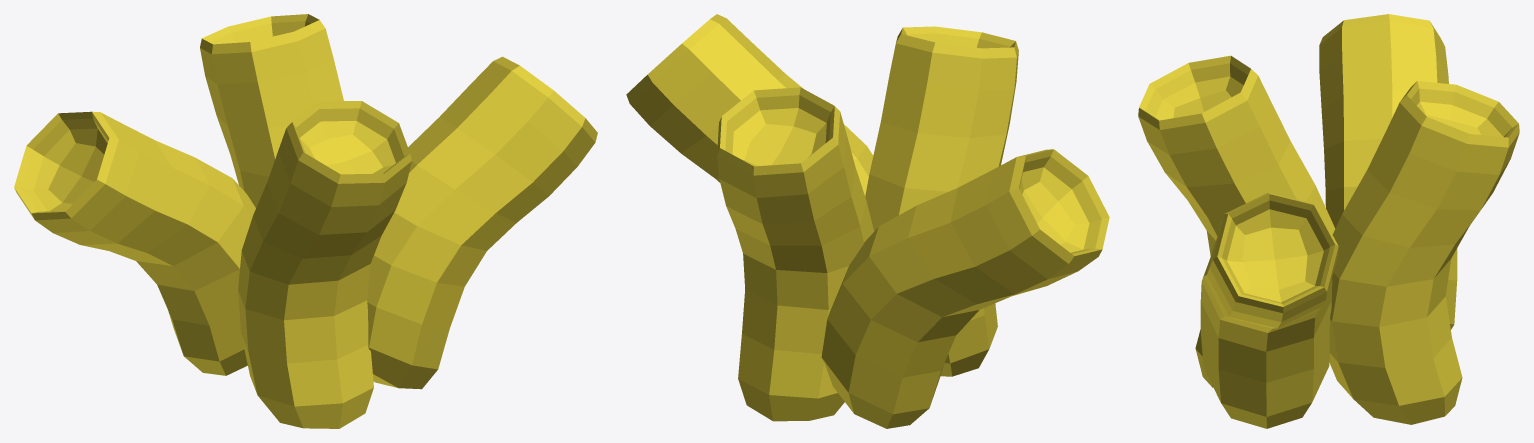
File: coral_1.fbx
3 renders of one model, left to right at view 1: azimuth 30°, elevation 25°; view 2: azimuth 150°, elevation 25°; view 3: azimuth 270°, elevation 25°, orthographic. The views are drawn at different scales.
Visible parts, largest first — view 1: coral 1; view 2: coral 1; view 3: coral 1.
Boxes of the visible parts, x1,y1,x2,y2 form: coral 1: (14,14,597,428); coral 1: (626,14,1109,428); coral 1: (1138,14,1519,428).
Size of the model in its own units: 154 by 93.48 by 101.
